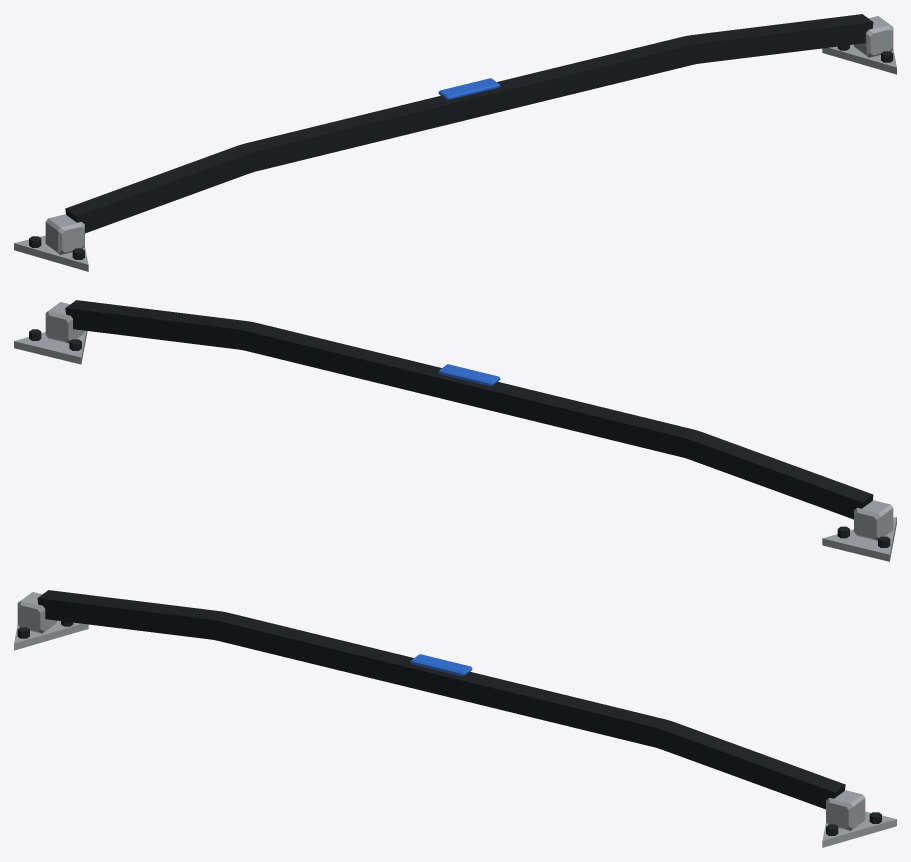
The model's file is brute_500.glb.
3 views of the same model, one above another, from view 1: azimuth 30°, elevation 25°; view 2: azimuth 150°, elevation 25°; view 3: azimuth 330°, elevation 25° (orthographic).
Parts seen in each view (by area): view 1: model; view 2: model; view 3: model.
Boxes of the visible parts, x1=… form: model: x1=14, y1=14, x2=896, y2=271; model: x1=14, y1=300, x2=896, y2=561; model: x1=14, y1=590, x2=896, y2=847.
Size of the model in its own units: 1.3 by 0.0979 by 0.1051.
Materials: 3 (1 with a texture image).
